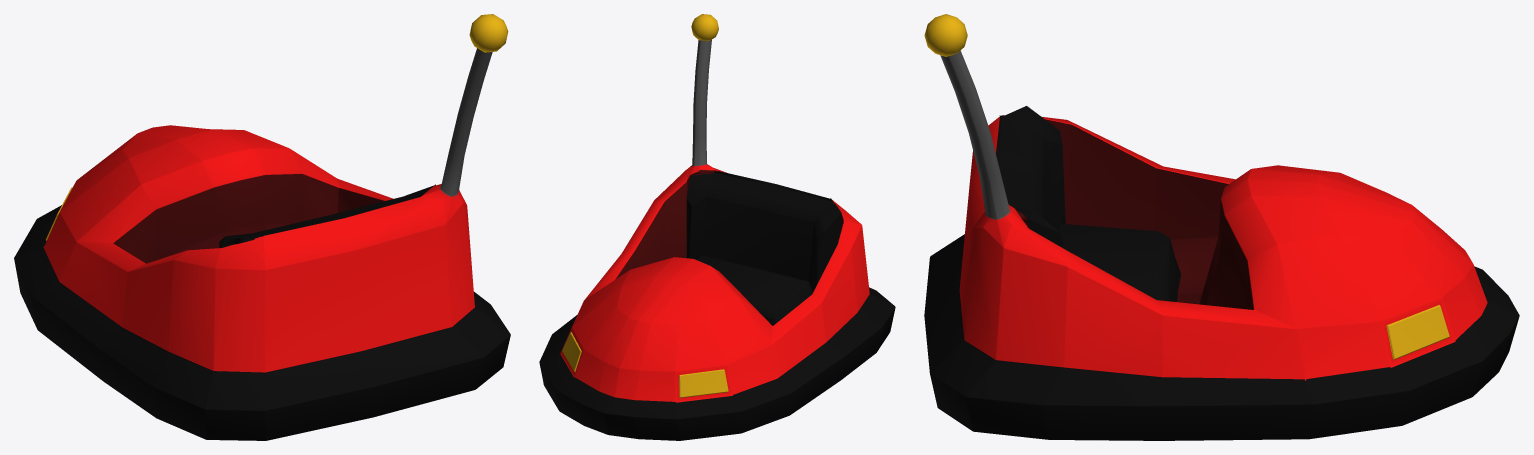
File: Auto_rouge_v1_003.FBX
3 renders of one model, left to right at view 1: azimuth 30°, elevation 25°; view 2: azimuth 150°, elevation 25°; view 3: azimuth 270°, elevation 25°, orthographic. The views are drawn at different scales.
Visible parts, largest first — view 1: BumperCar003, GeoSphere002; view 2: BumperCar003, GeoSphere002; view 3: BumperCar003, GeoSphere002.
Part boxes in pixels (x1=…): BumperCar003: x1=14, y1=48, x2=510, y2=440; GeoSphere002: x1=469, y1=14, x2=508, y2=52; BumperCar003: x1=539, y1=39, x2=895, y2=440; GeoSphere002: x1=691, y1=14, x2=718, y2=41; BumperCar003: x1=924, y1=51, x2=1519, y2=440; GeoSphere002: x1=924, y1=14, x2=967, y2=56.
Size of the model in its own units: 59.47 by 62.28 by 82.37.
